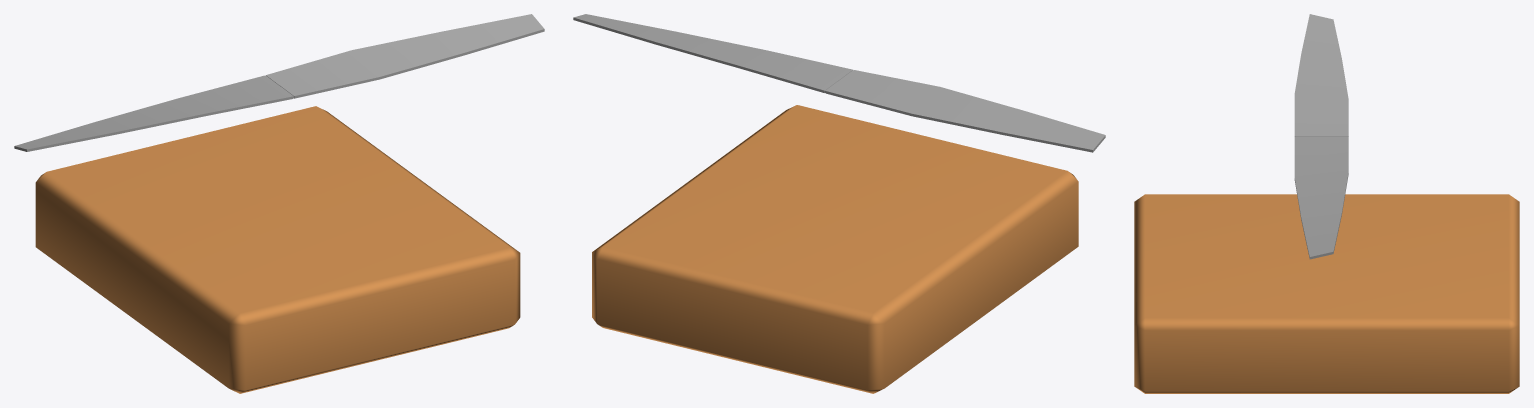
Rendered from Drone01_properaWhite.fbx.
3 renders of one model, left to right at view 1: azimuth 30°, elevation 25°; view 2: azimuth 150°, elevation 25°; view 3: azimuth 270°, elevation 25°, orthographic. The views are drawn at different scales.
Visible parts, largest first — view 1: Drone01:Drone01:polySurface4, Drone01:Drone01:pCube9; view 2: Drone01:Drone01:polySurface4, Drone01:Drone01:pCube9; view 3: Drone01:Drone01:polySurface4, Drone01:Drone01:pCube9.
Part boxes in pixels (x1,y1,x2,y2): Drone01:Drone01:polySurface4: [35, 106, 520, 393]; Drone01:Drone01:pCube9: [14, 14, 544, 151]; Drone01:Drone01:polySurface4: [592, 105, 1078, 393]; Drone01:Drone01:pCube9: [573, 14, 1105, 152]; Drone01:Drone01:polySurface4: [1134, 194, 1519, 393]; Drone01:Drone01:pCube9: [1294, 14, 1348, 259].
Bounding box in the file's own units: 30 × 11.69 × 20.57.
